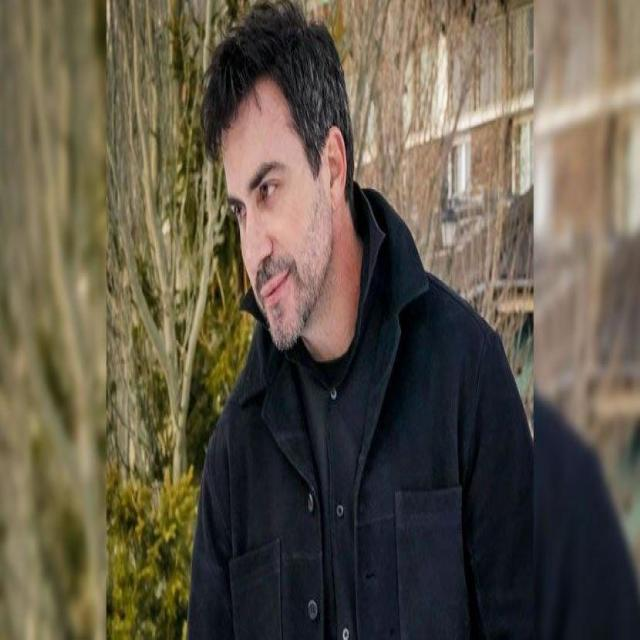person: (143, 17, 531, 639)
